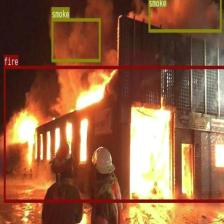fire: (3, 65, 224, 202)
smoke: (148, 0, 221, 31), (51, 18, 101, 61)
